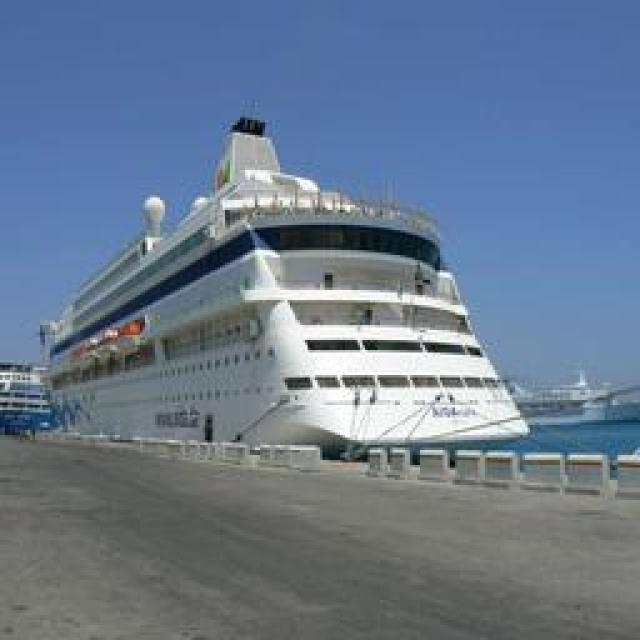ship2: (39, 118, 532, 464)
